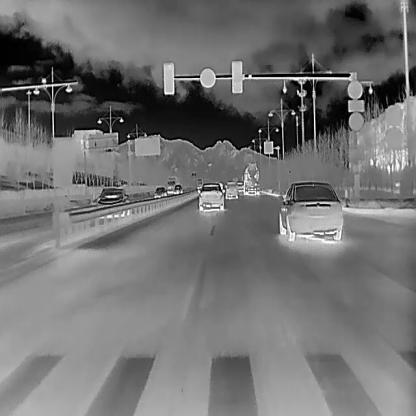car: (278, 181, 343, 242), (197, 181, 225, 211), (96, 186, 129, 210), (244, 161, 260, 195), (166, 175, 181, 193), (224, 181, 238, 199), (153, 186, 168, 198), (235, 179, 244, 192), (172, 183, 182, 193), (196, 177, 204, 189)
